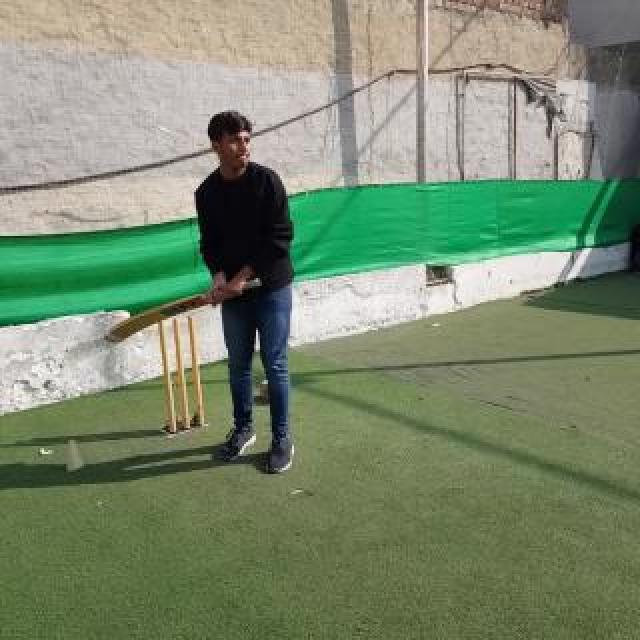bat: (104, 278, 262, 344)
